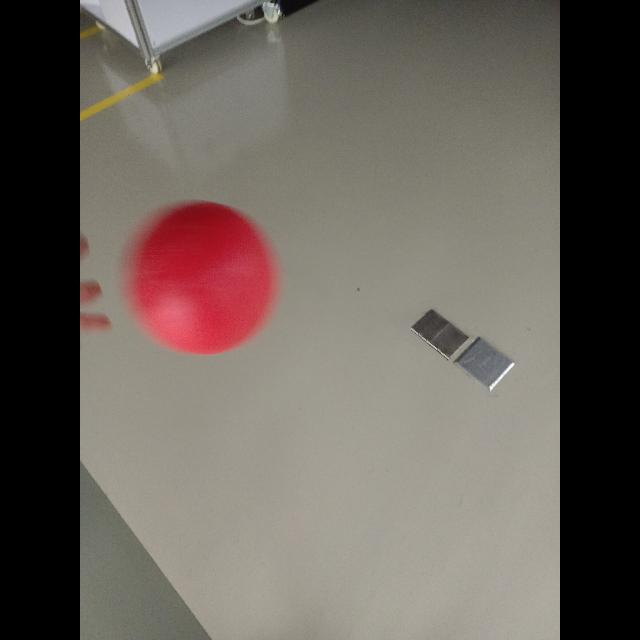R: (129, 202, 281, 358)
